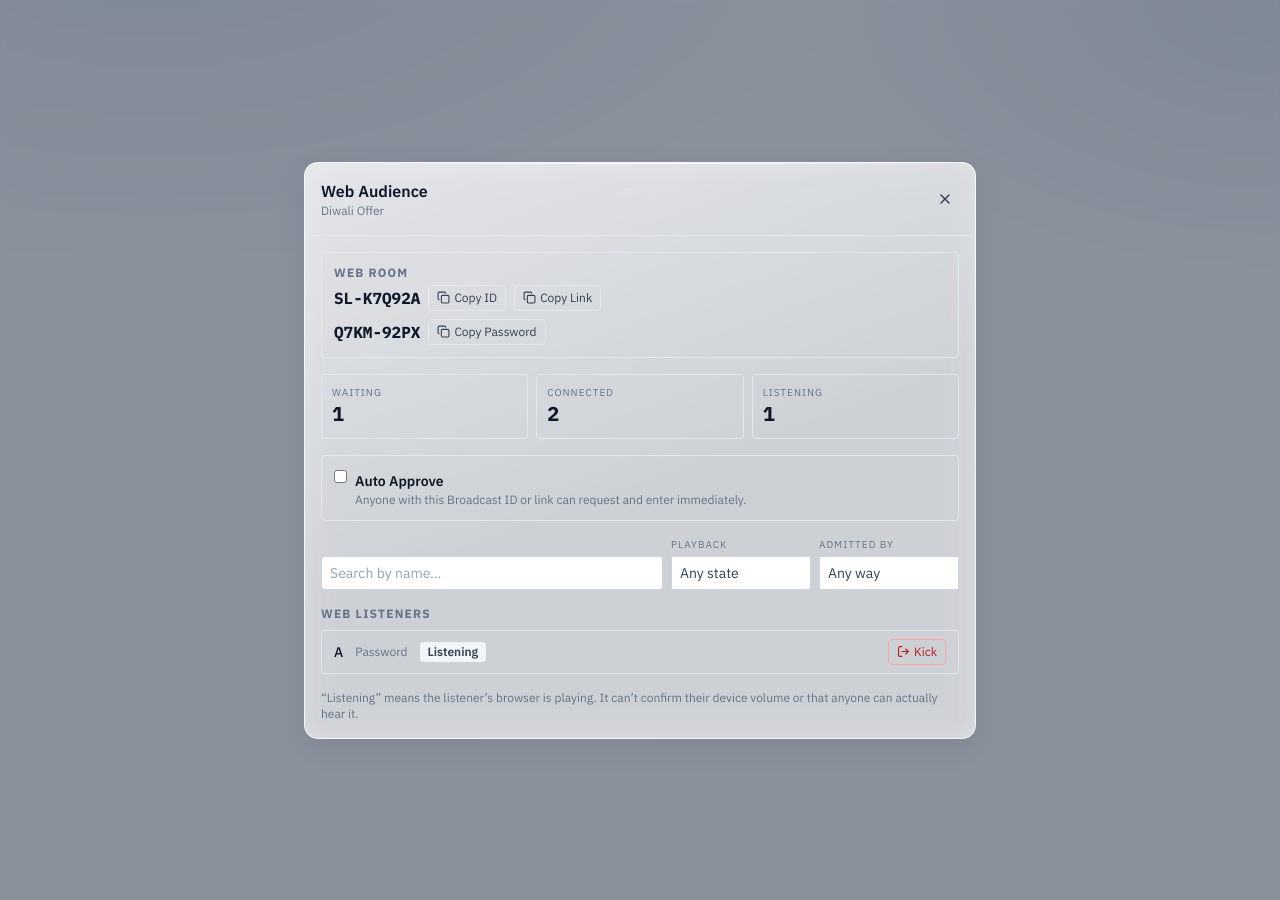
Test: a filter matching nobody says so rather than looking empty
The image size is (1280, 900).
Type "nobody" into the field with test id "supervised-audience-search" at (492, 572), box [321,556,663,590]
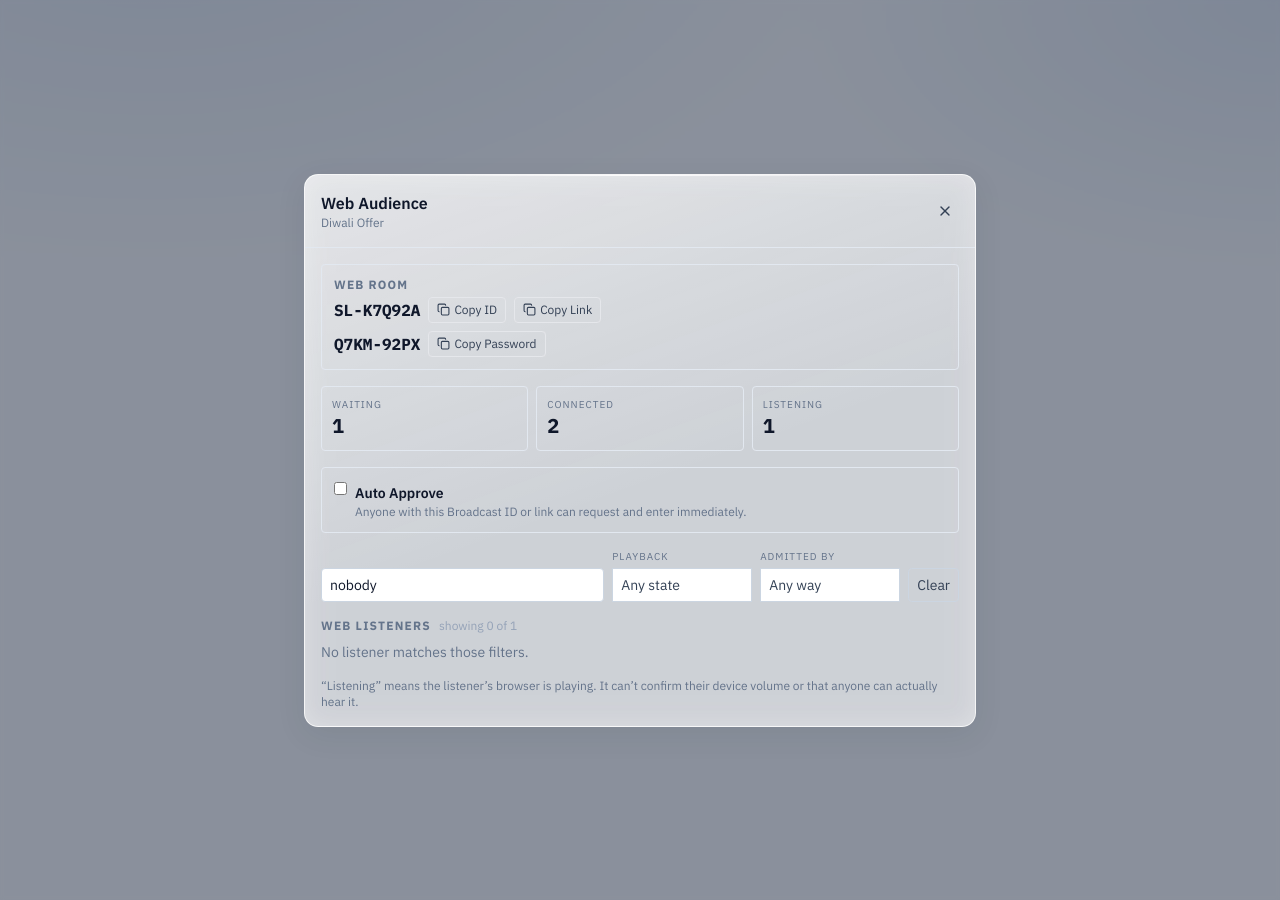
Result: the text "No listener matches those filters." is shown at [321,642,528,660]
